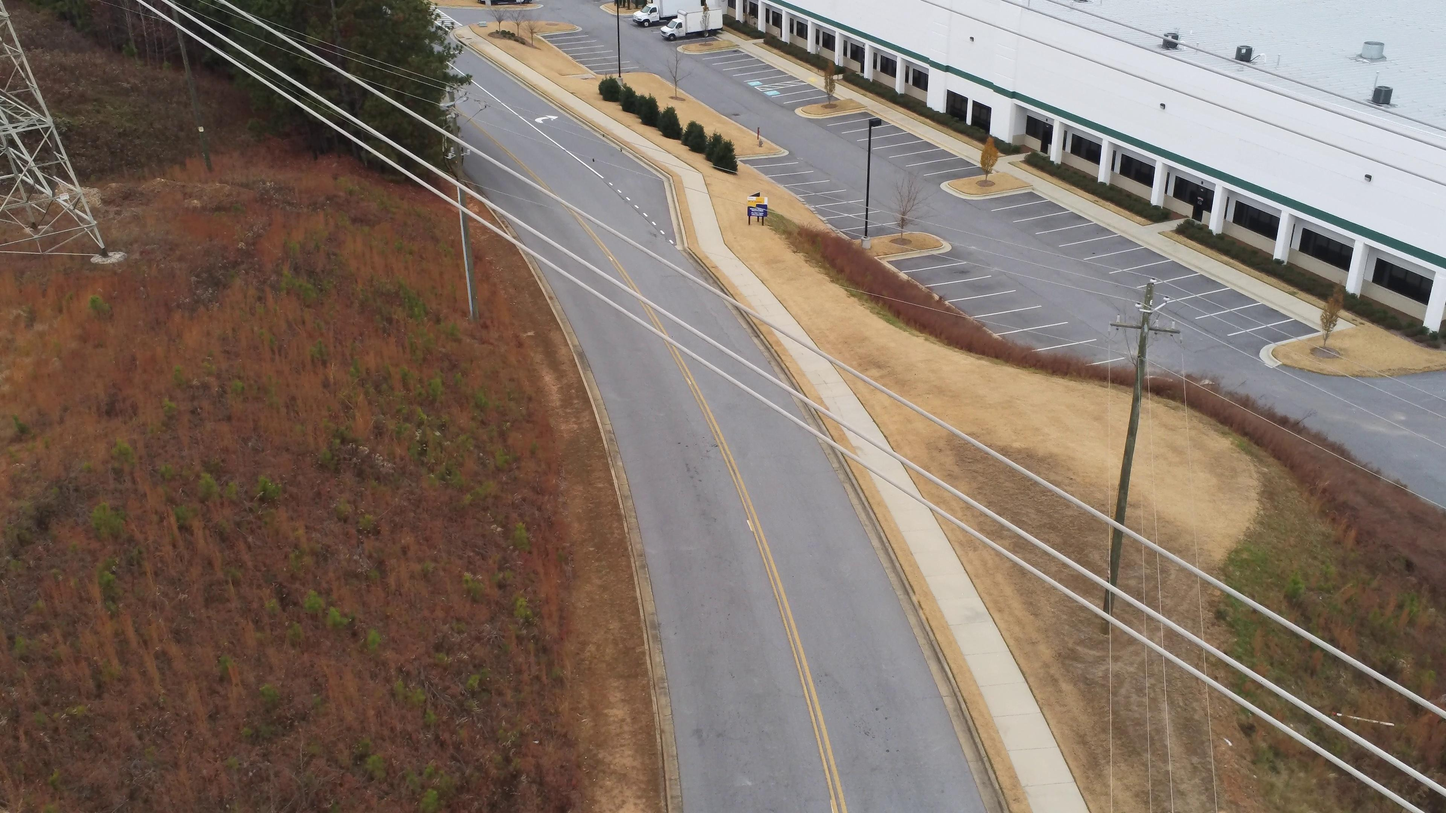power_tower: (1, 0, 106, 254)
